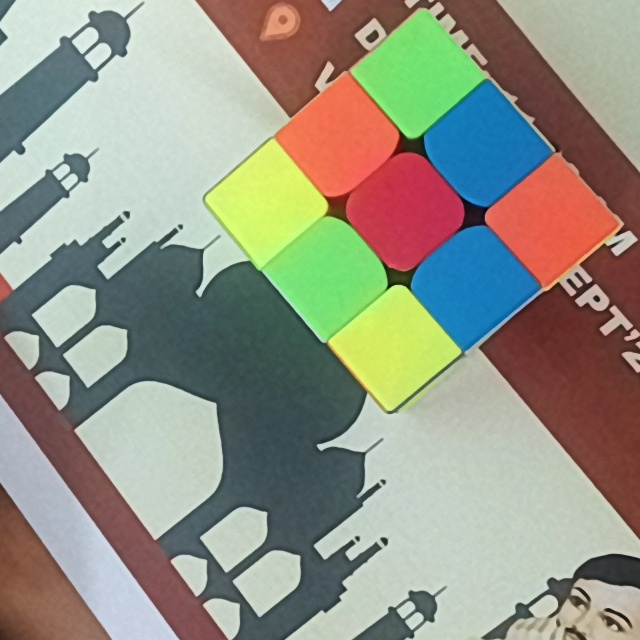tile: (439, 252, 508, 321), (524, 180, 589, 253), (363, 311, 428, 384), (369, 178, 439, 245), (304, 110, 376, 170), (297, 242, 362, 307), (457, 113, 514, 185), (385, 45, 449, 107), (235, 172, 302, 230)
